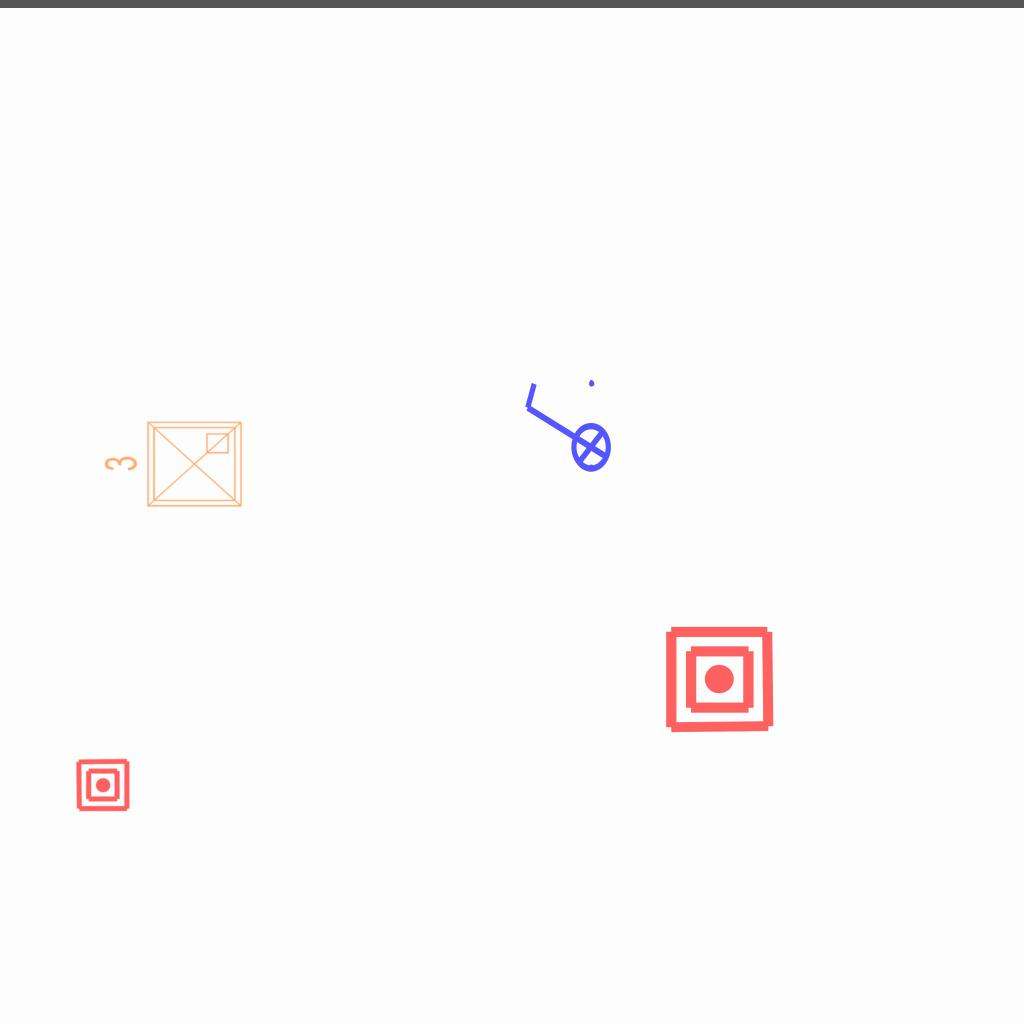Ausschalter_beleuchtet: (517, 374, 613, 486)
Einbaudownlights_LED_Konferenzraeume: (99, 414, 249, 518)
NAM-Nichtautomatischer_Melder: (663, 623, 776, 736), (75, 757, 131, 813)
